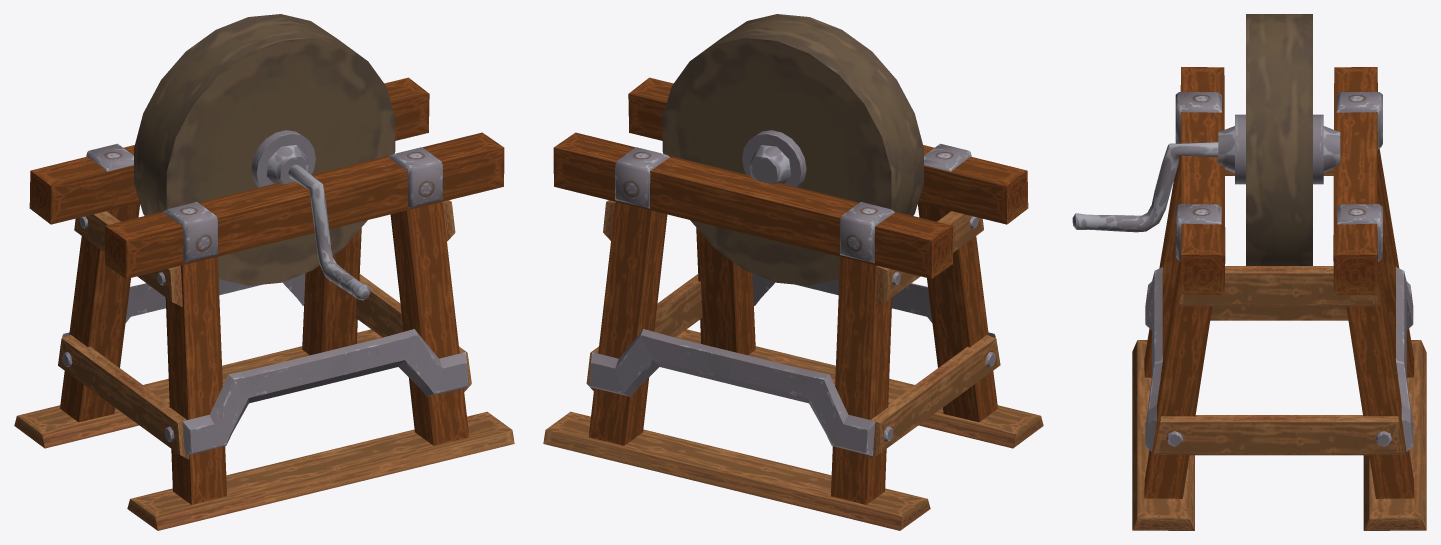
File: Whetstone.gltf
3 renders of one model, left to right at view 1: azimuth 30°, elevation 25°; view 2: azimuth 150°, elevation 25°; view 3: azimuth 270°, elevation 25°, orthographic. The views are drawn at different scales.
Parts seen in each view (by area): view 1: Whetstone; view 2: Whetstone; view 3: Whetstone.
Boxes of the visible parts, <box> form: Whetstone: <box>14,14,514,530</box>; Whetstone: <box>543,14,1043,530</box>; Whetstone: <box>1072,14,1426,530</box>.
Size of the model in its own units: 1.14 by 1.17 by 0.9018.
Materials: 3 (3 with a texture image).
